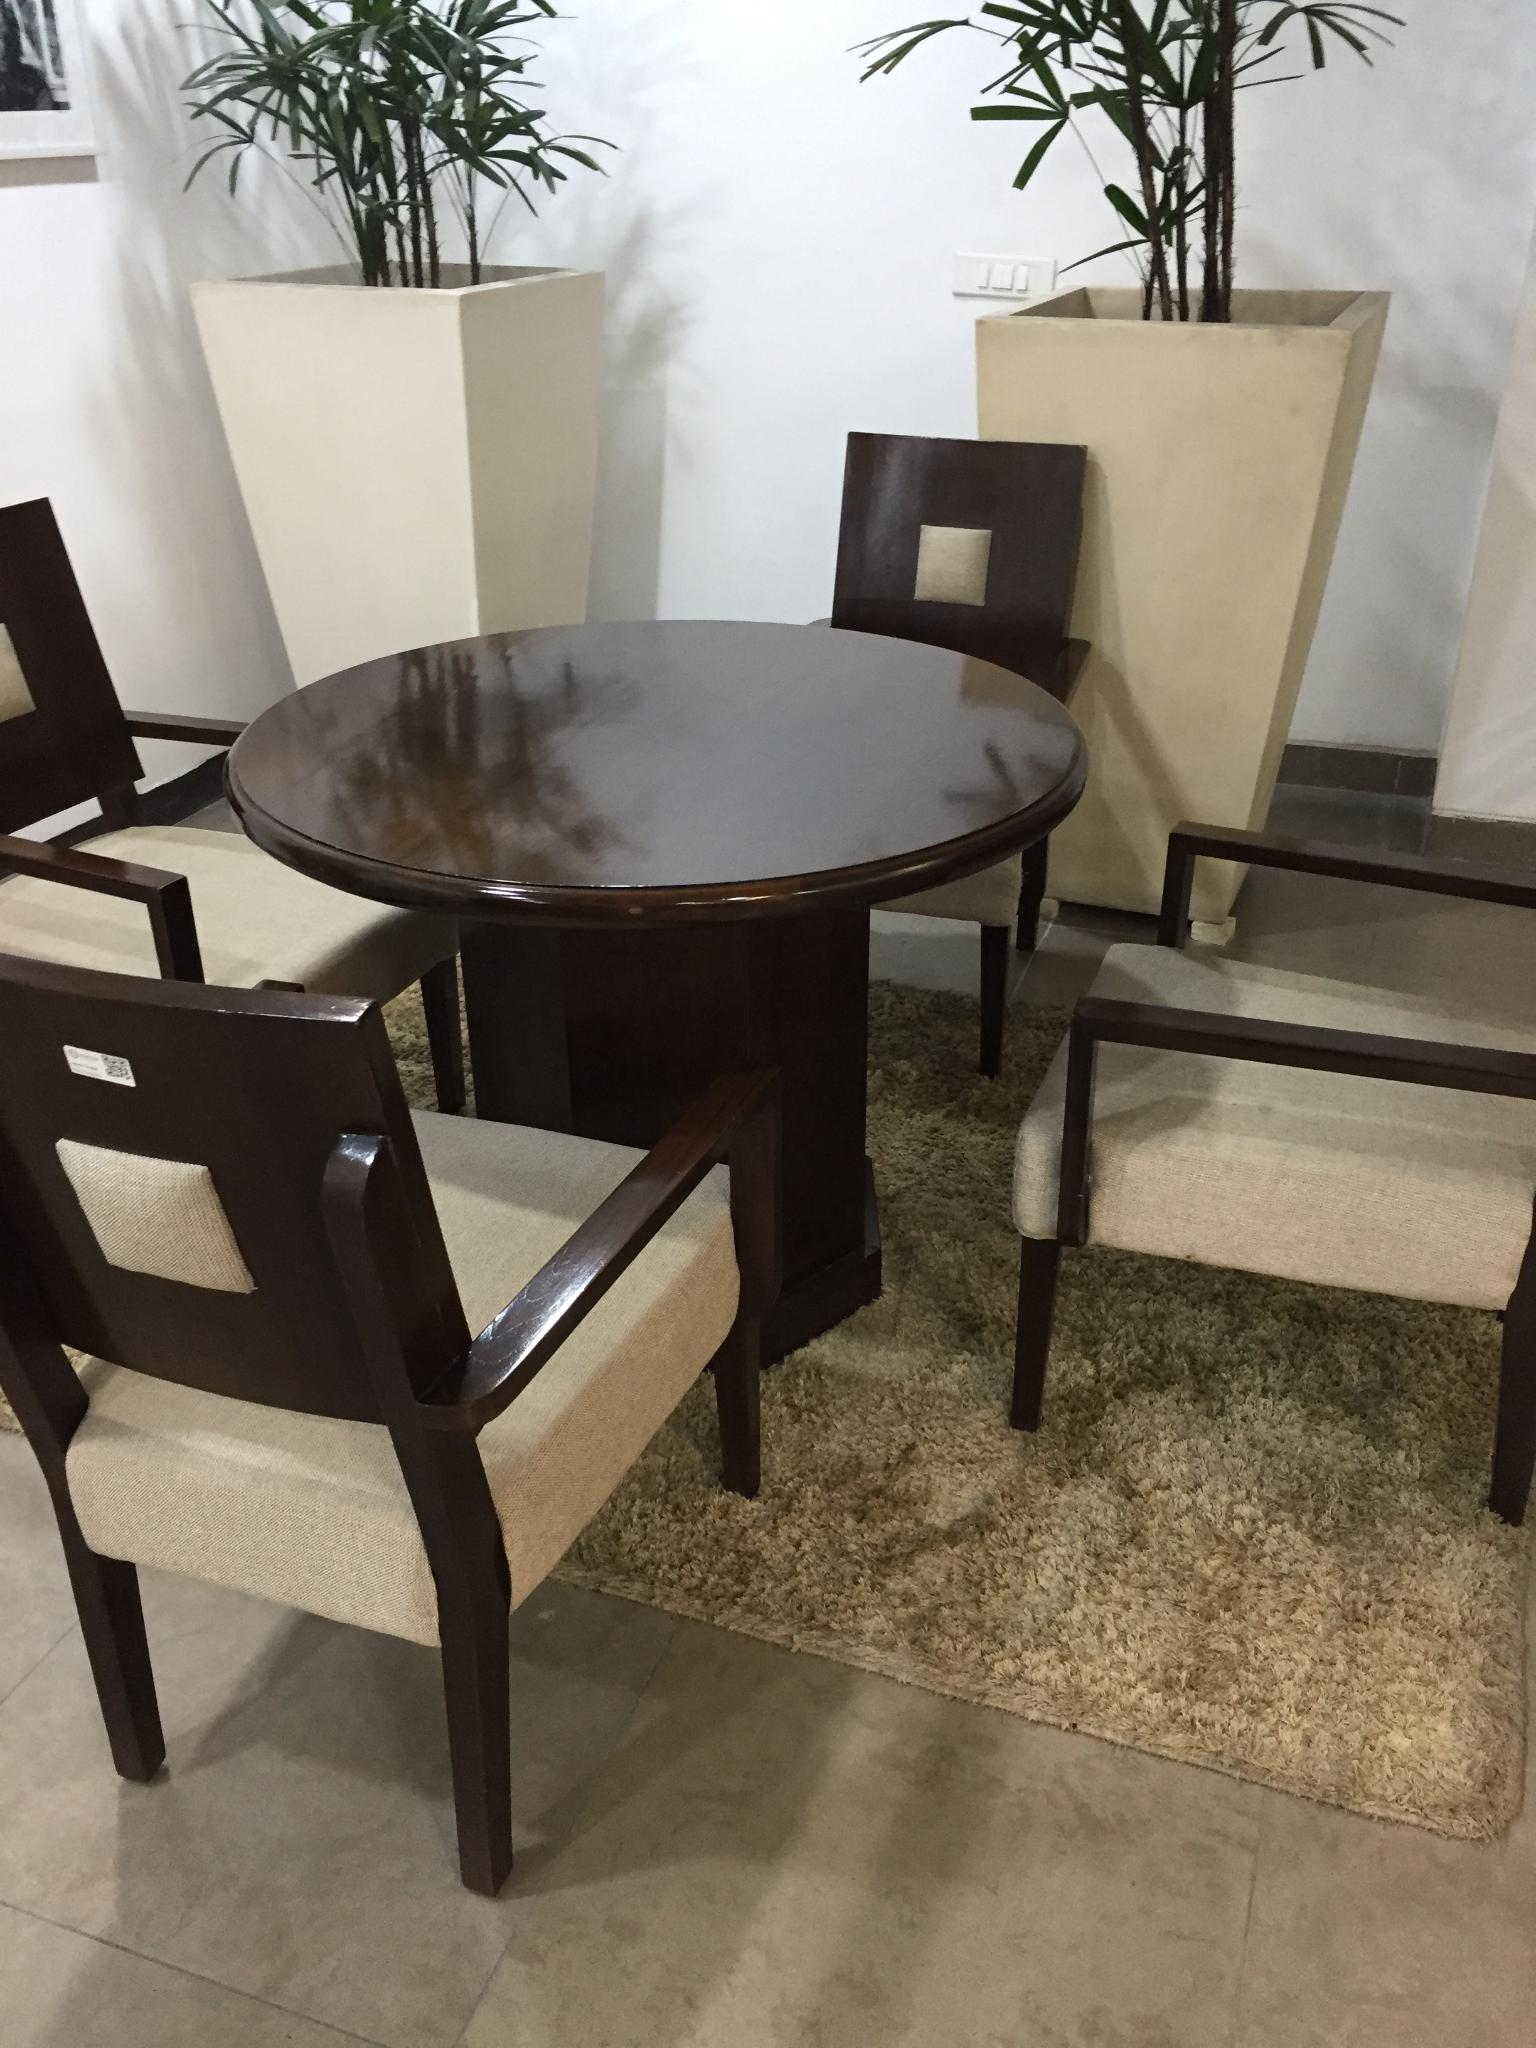chair: (0, 950, 787, 1896), (1008, 819, 1536, 1526), (0, 495, 466, 1118), (813, 429, 1092, 1077)
